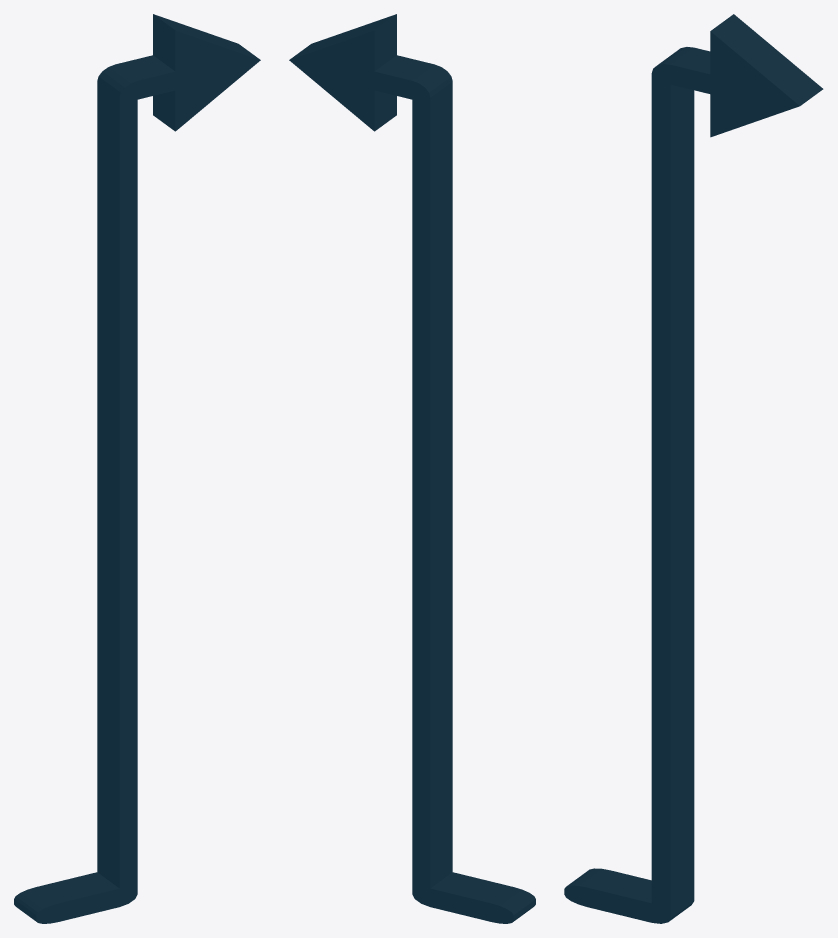
Rendered from arrowUp.gltf.
3 views of the same model, side by side, from view 1: azimuth 30°, elevation 25°; view 2: azimuth 150°, elevation 25°; view 3: azimuth 330°, elevation 25° (orthographic). The views are drawn at different scales.
Visible parts, largest first — view 1: Plane.014; view 2: Plane.014; view 3: Plane.014.
Boxes of the visible parts, x1=… form: Plane.014: x1=14, y1=14, x2=260, y2=923; Plane.014: x1=289, y1=14, x2=535, y2=923; Plane.014: x1=564, y1=14, x2=823, y2=923.
Bounding box in the file's own units: 0.8701 × 3.19 × 0.15.
